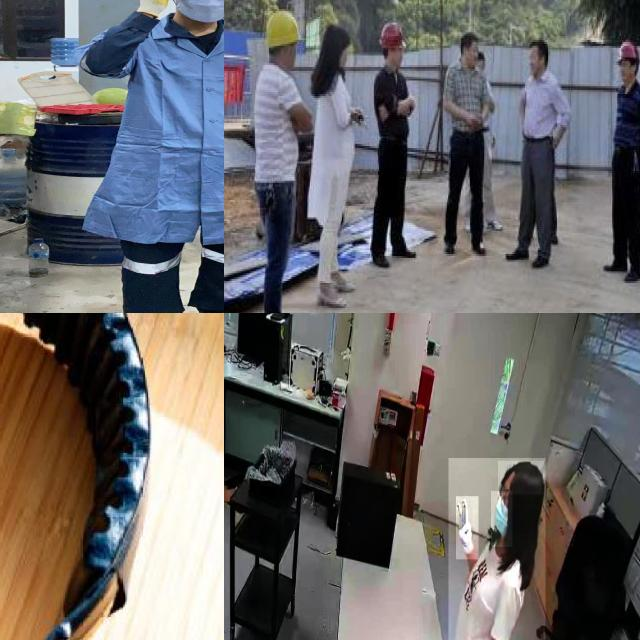Ear-protection: (0, 313, 131, 640)
face_mask: (491, 491, 513, 547), (171, 0, 224, 18)
hand_glove: (456, 496, 478, 560), (132, 0, 190, 14)
hand_noglove: (463, 108, 485, 131)
head_helmet: (261, 8, 308, 53), (377, 21, 408, 52), (613, 41, 640, 65)
head_nohelmet: (498, 461, 544, 495), (321, 20, 351, 49), (526, 32, 548, 55), (459, 30, 481, 47)
person: (79, 0, 224, 313), (246, 8, 307, 313), (448, 457, 545, 640), (506, 28, 574, 277), (310, 15, 363, 313), (435, 20, 495, 266), (370, 10, 421, 283), (601, 34, 640, 292)
shoes: (314, 288, 350, 312), (598, 257, 629, 276), (368, 249, 393, 271), (533, 247, 556, 270), (391, 241, 418, 260), (502, 243, 529, 262), (620, 263, 640, 286), (441, 237, 461, 256), (468, 238, 489, 256)
